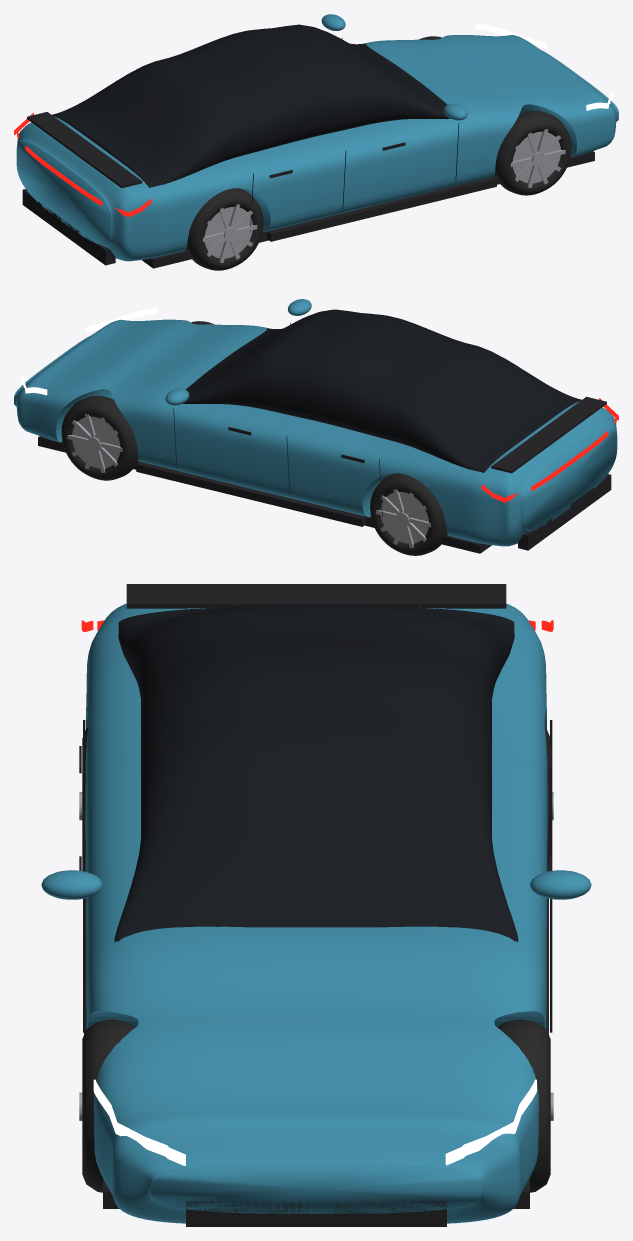
Rendered from su7_nodraco.glb.
3 renders of one model, top to bottom at view 1: azimuth 30°, elevation 25°; view 2: azimuth 150°, elevation 25°; view 3: azimuth 270°, elevation 25°, orthographic. The views are drawn at different scales.
Visible parts, largest first — view 1: Body, Glass, Wheel.001, Wheel.003, Skirt.001, Rear_Spoiler, Rear_Diffuser, Underbody, Taillight_Bar, Headlight_L; view 2: Body, Glass, Wheel, Wheel.002, Skirt, Rear_Spoiler, Rear_Diffuser, Underbody, Taillight_Bar, Headlight_R; view 3: Body, Glass, Rear_Spoiler, Front_Intake, Wheel, Wheel.001, Mirror, Mirror.001, Headlight_R, Headlight_L.
Boxes of the visible parts, bbox=[...] form: Body: bbox=[16, 35, 618, 261]; Glass: bbox=[52, 24, 450, 187]; Wheel.001: bbox=[495, 111, 571, 195]; Wheel.003: bbox=[186, 188, 263, 270]; Skirt.001: bbox=[267, 176, 496, 241]; Rear_Spoiler: bbox=[27, 112, 142, 188]; Rear_Diffuser: bbox=[22, 189, 115, 265]; Underbody: bbox=[142, 150, 594, 268]; Taillight_Bar: bbox=[17, 132, 127, 216]; Headlight_L: bbox=[476, 24, 546, 48]; Body: bbox=[14, 319, 617, 546]; Glass: bbox=[166, 309, 581, 472]; Wheel: bbox=[61, 396, 138, 480]; Wheel.002: bbox=[370, 473, 447, 555]; Skirt: bbox=[136, 462, 365, 526]; Rear_Spoiler: bbox=[491, 396, 606, 473]; Rear_Diffuser: bbox=[518, 474, 611, 550]; Underbody: bbox=[38, 435, 491, 553]; Taillight_Bar: bbox=[506, 417, 616, 501]; Headlight_R: bbox=[85, 308, 157, 332]; Body: bbox=[85, 603, 547, 1223]; Glass: bbox=[114, 605, 518, 942]; Rear_Spoiler: bbox=[126, 584, 506, 608]; Front_Intake: bbox=[186, 1201, 446, 1226]; Wheel: bbox=[497, 1019, 553, 1192]; Wheel.001: bbox=[79, 1019, 135, 1192]; Mirror: bbox=[530, 870, 591, 899]; Mirror.001: bbox=[41, 870, 102, 899]; Headlight_R: bbox=[93, 1079, 185, 1165]; Headlight_L: bbox=[445, 1079, 536, 1165].
Bounding box in the file's own units: 5.05 × 1.47 × 2.32.
